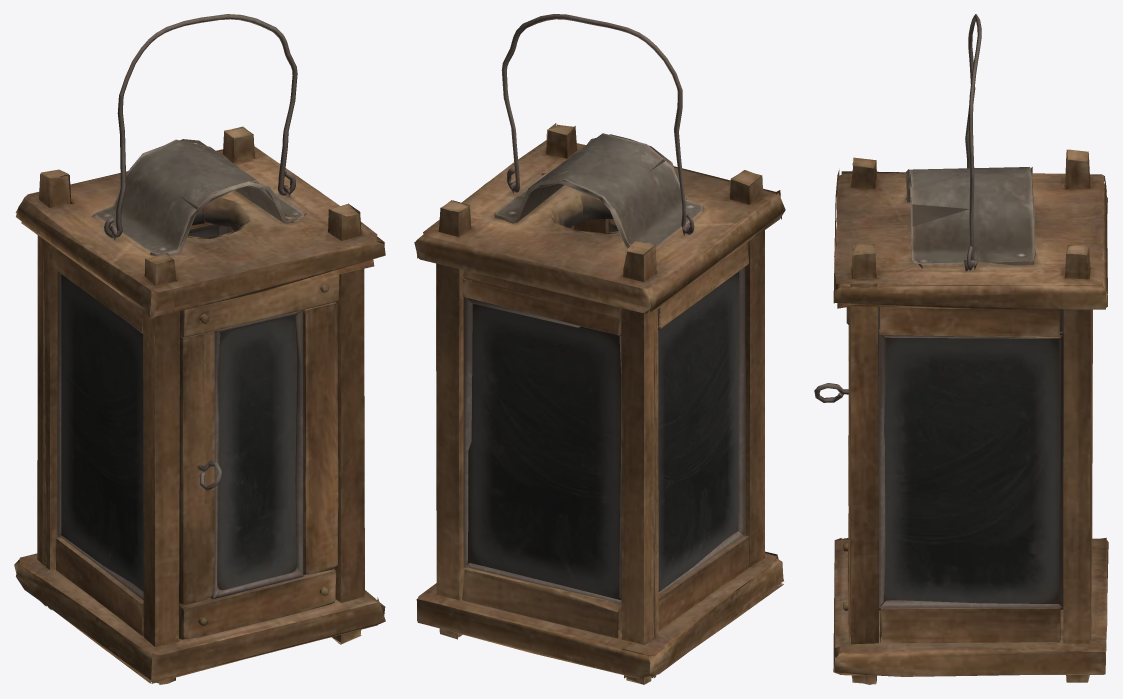
File: wooden_lantern_01.glb
3 views of the same model, side by side, from view 1: azimuth 30°, elevation 25°; view 2: azimuth 150°, elevation 25°; view 3: azimuth 270°, elevation 25° (orthographic).
Visible parts, largest first — view 1: wooden_lantern_01, wooden_lantern_01_door, wooden_lantern_01_handle; view 2: wooden_lantern_01, wooden_lantern_01_handle; view 3: wooden_lantern_01, wooden_lantern_01_handle, wooden_lantern_01_door.
Boxes of the visible parts, left/top/right/bottom form: wooden_lantern_01: left=14, top=126, right=385, bottom=684; wooden_lantern_01_door: left=179, top=274, right=339, bottom=639; wooden_lantern_01_handle: left=104, top=14, right=297, bottom=238; wooden_lantern_01: left=414, top=123, right=785, bottom=684; wooden_lantern_01_handle: left=501, top=14, right=694, bottom=234; wooden_lantern_01: left=833, top=149, right=1108, bottom=684; wooden_lantern_01_handle: left=965, top=14, right=981, bottom=270; wooden_lantern_01_door: left=814, top=307, right=849, bottom=624.
Size of the model in its own units: 0.2194 by 0.5295 by 0.2333.
2 materials, 2 textured.
